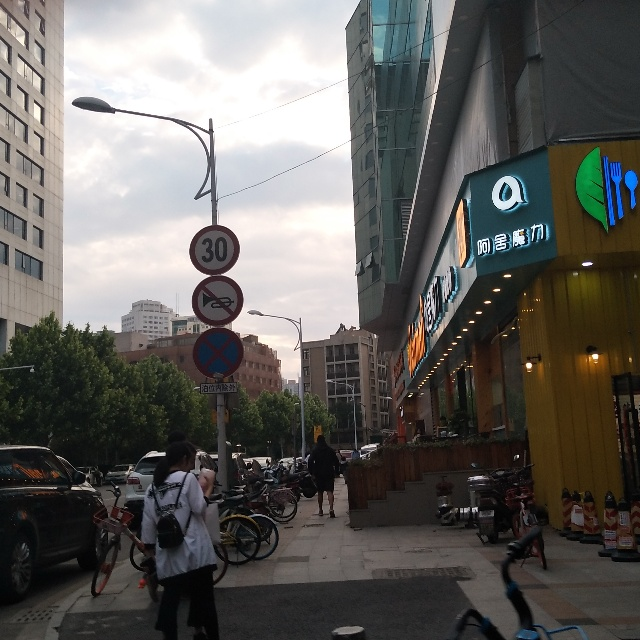nohonk: (192, 276, 244, 326)
stop: (192, 328, 244, 379)
